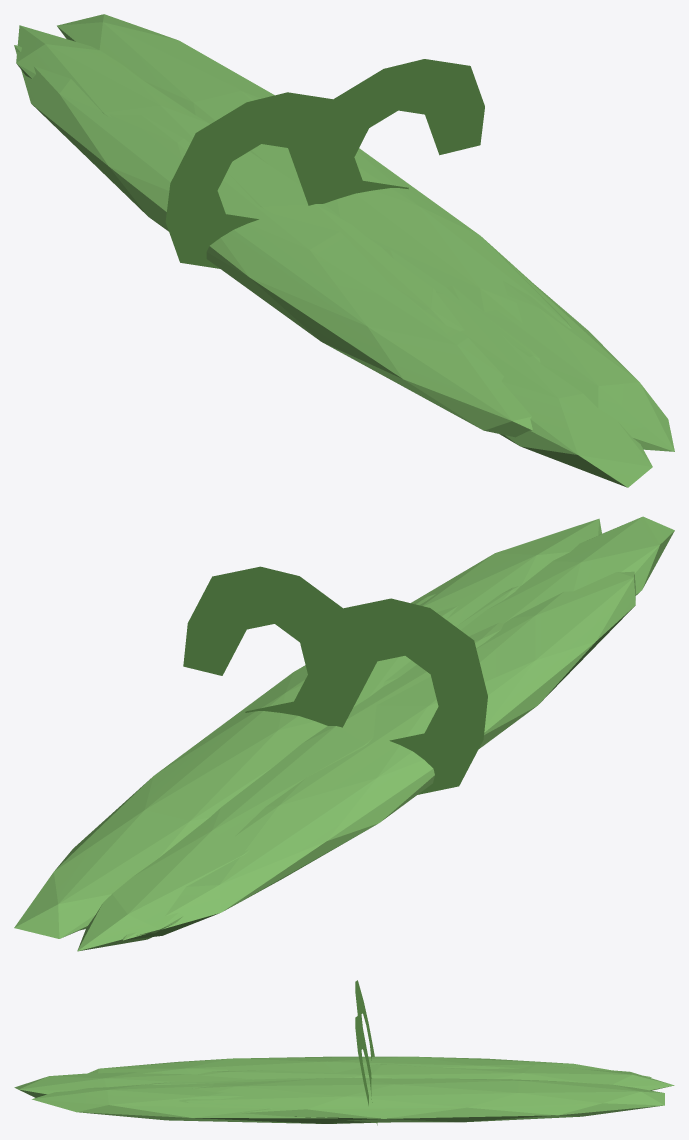
The model's file is asplenium-nidus.glb.
The picture shows the model from 3 angles, top to bottom: view 1: azimuth 30°, elevation 25°; view 2: azimuth 150°, elevation 25°; view 3: azimuth 270°, elevation 25°; orthographic projection. The views are drawn at different scales.
Visible parts, largest first — view 1: frond3, frond0, frond4, fiddle1, fiddle-1, frond2, frond1, frond6; view 2: frond3, frond0, frond4, fiddle1, fiddle-1, frond2, frond1, frond6; view 3: frond0, frond1, frond4, frond3, frond2, fiddle-1, fiddle1, frond6.
Part boxes in pixels (x1=…): frond3: x1=14, y1=45, x2=532, y2=437; frond0: x1=57, y1=14, x2=571, y2=328; frond4: x1=16, y1=25, x2=464, y2=331; fiddle1: x1=302, y1=59, x2=484, y2=205; fiddle-1: x1=165, y1=92, x2=346, y2=268; frond2: x1=436, y1=291, x2=652, y2=487; frond1: x1=446, y1=262, x2=674, y2=451; frond6: x1=382, y1=247, x2=540, y2=362; frond3: x1=123, y1=571, x2=635, y2=940; frond0: x1=14, y1=593, x2=457, y2=938; frond4: x1=77, y1=622, x2=503, y2=951; fiddle1: x1=183, y1=566, x2=357, y2=727; fiddle-1: x1=315, y1=598, x2=487, y2=794; frond2: x1=460, y1=516, x2=674, y2=636; frond1: x1=411, y1=518, x2=601, y2=626; frond6: x1=80, y1=586, x2=519, y2=930; frond0: x1=178, y1=1077, x2=664, y2=1122; frond1: x1=32, y1=1081, x2=390, y2=1123; frond4: x1=200, y1=1064, x2=674, y2=1090; frond3: x1=88, y1=1056, x2=651, y2=1077; frond2: x1=14, y1=1072, x2=249, y2=1097; fiddle-1: x1=355, y1=980, x2=374, y2=1069; fiddle1: x1=355, y1=1016, x2=377, y2=1125; frond6: x1=148, y1=1078, x2=308, y2=1084.
Size of the model in its own units: 0.184 by 0.1059 by 0.6252.
